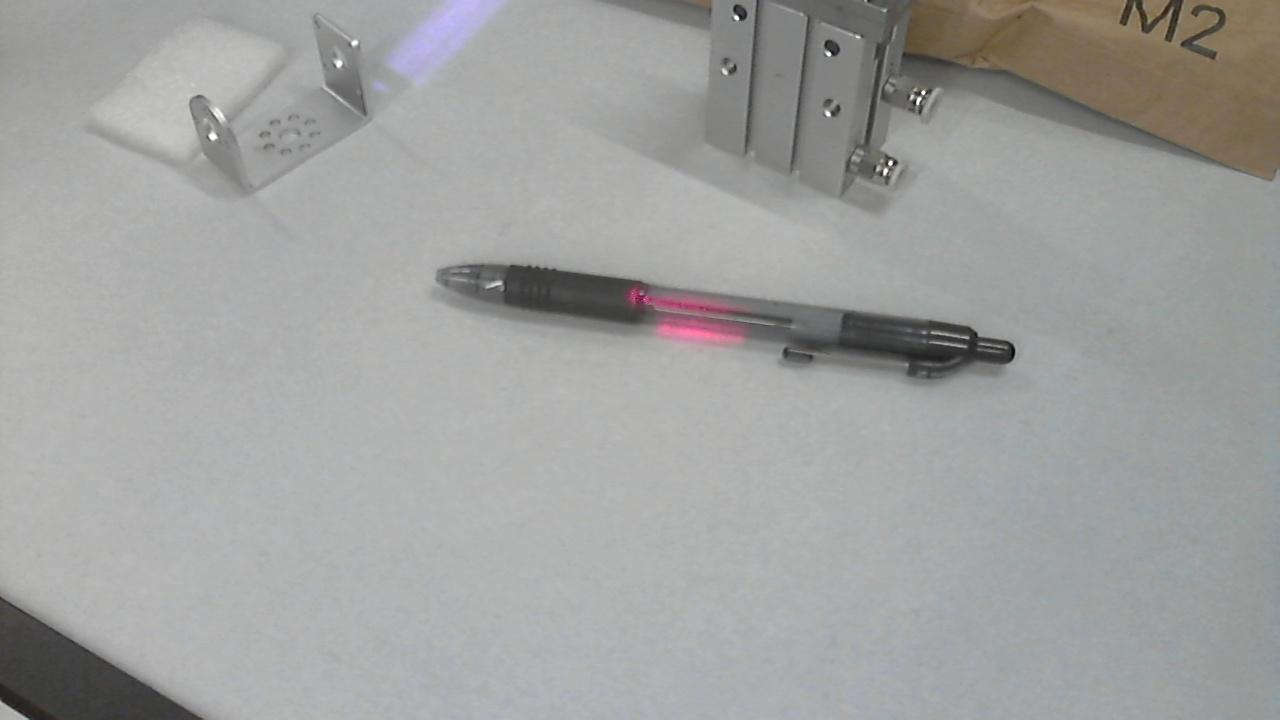Object retractable gel pen - Material plastic- Pdfname asdasdaswe: (614, 274, 755, 344)
